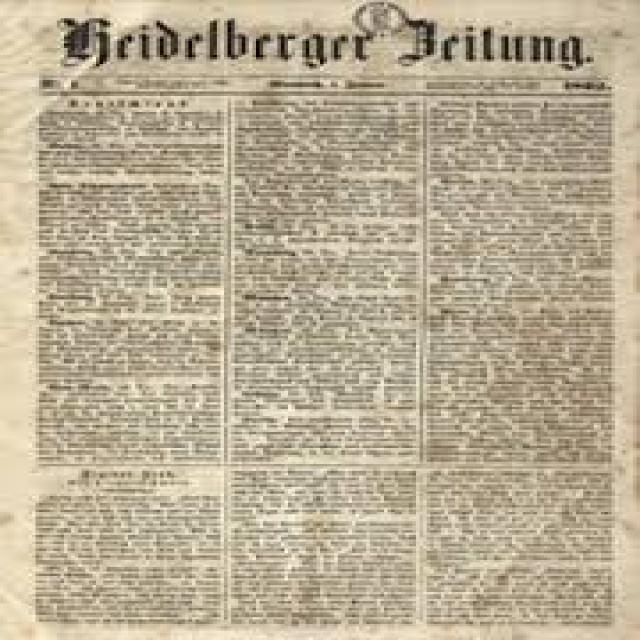Newspaper: (1, 2, 632, 636)
